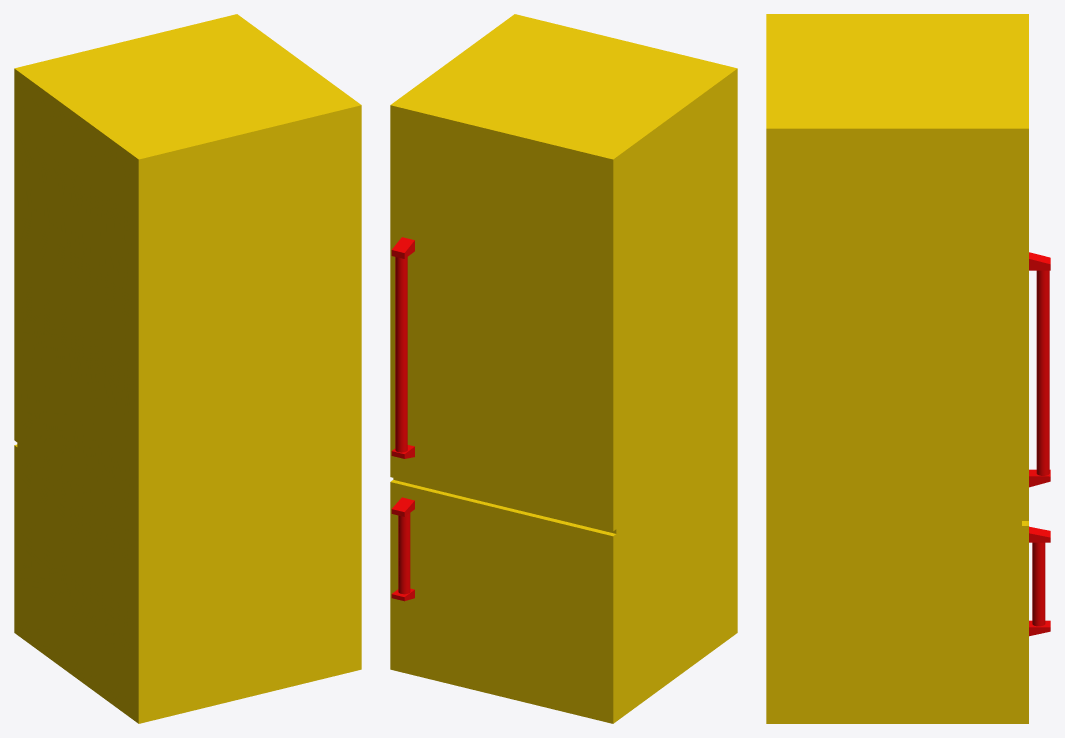
File: Frigo.FBX
The picture shows the model from 3 angles, left to right: view 1: azimuth 30°, elevation 25°; view 2: azimuth 150°, elevation 25°; view 3: azimuth 270°, elevation 25°; orthographic projection. The views are drawn at different scales.
Parts seen in each view (by area): view 1: Box002; view 2: Box002; view 3: Box002.
Boxes of the visible parts, x1,y1,x2,y2 form: Box002: (14, 14, 361, 723); Box002: (390, 14, 737, 723); Box002: (766, 14, 1050, 723).
Bounding box in the file's own units: 36.61 × 88.58 × 38.39.
